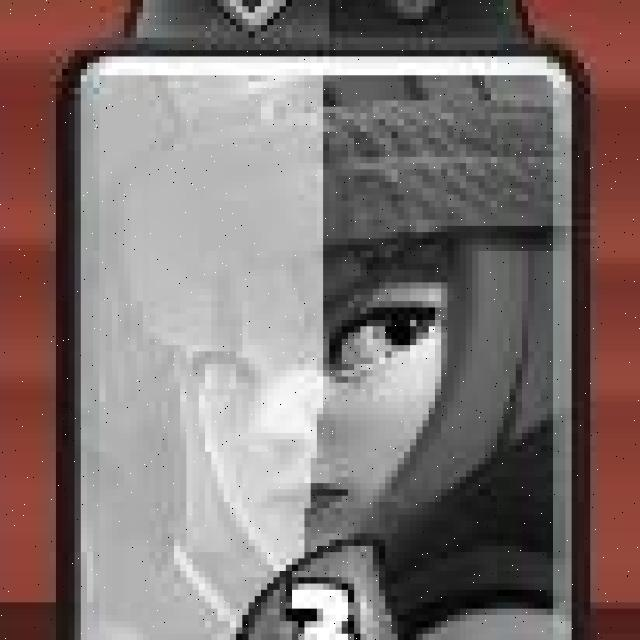Firecracker: (72, 59, 579, 640)
